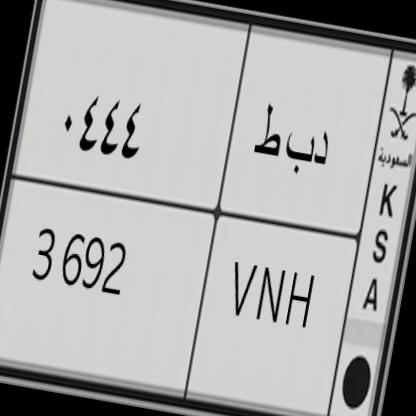english: (0, 164, 363, 416)
